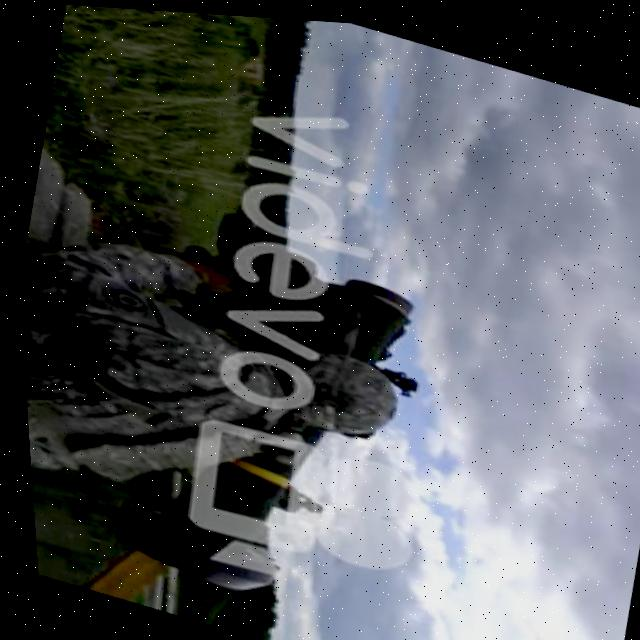rocket: (77, 213, 446, 636)
